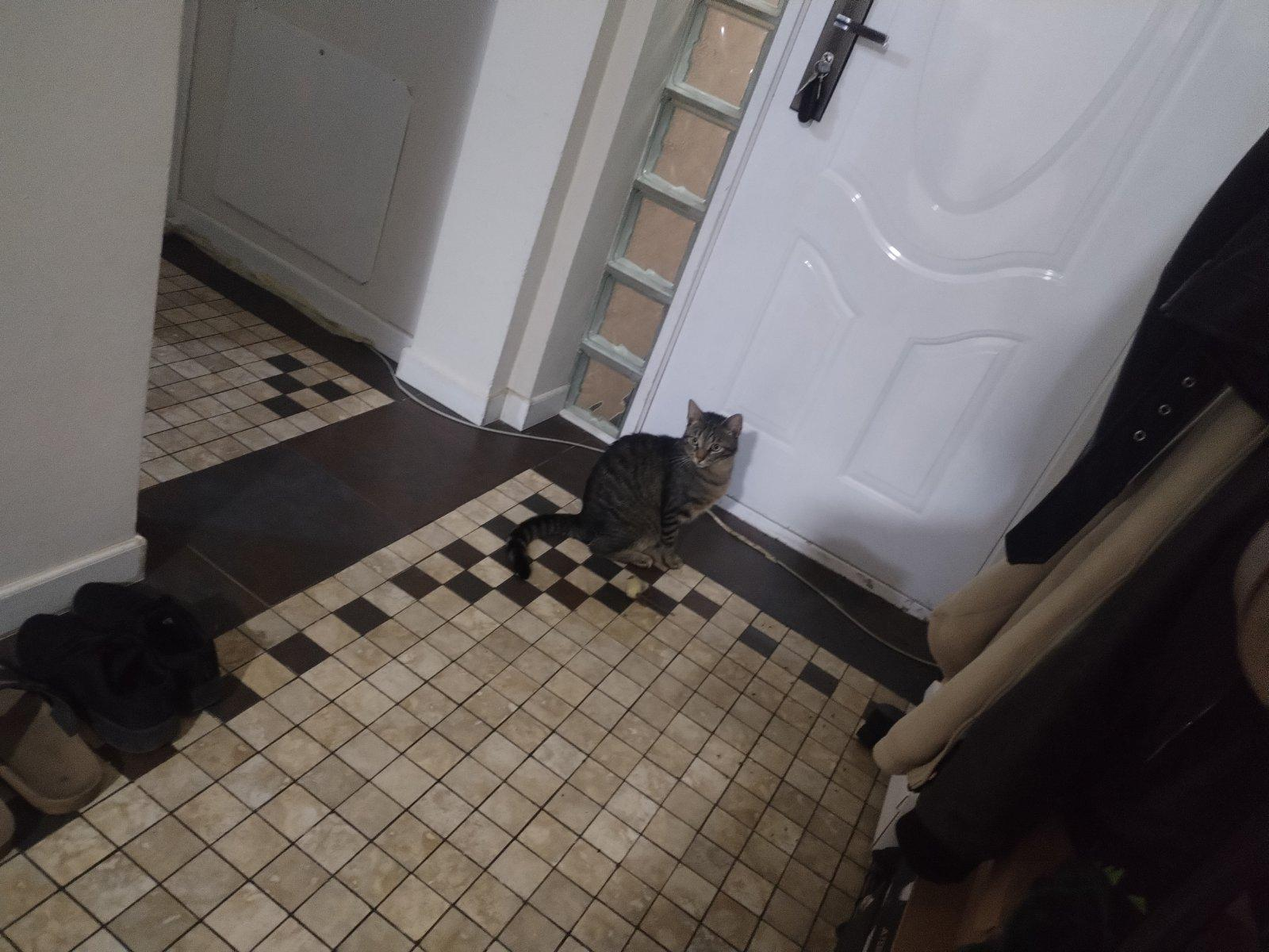macka: (506, 399, 744, 580)
